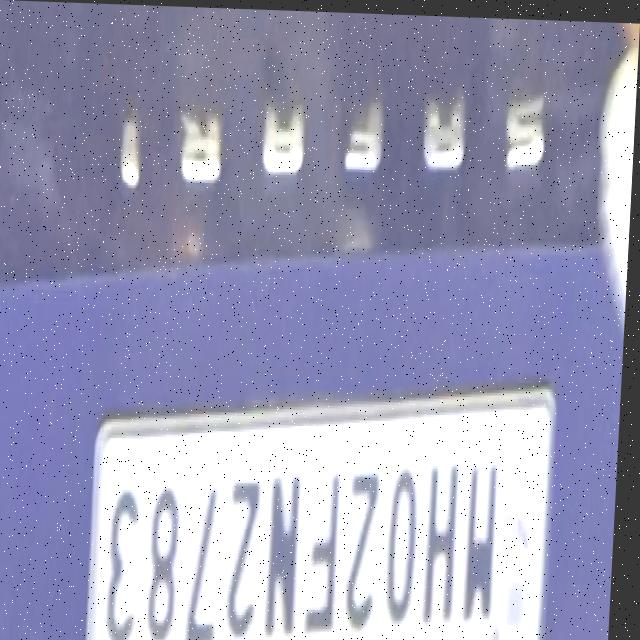plate: (91, 390, 561, 640)
